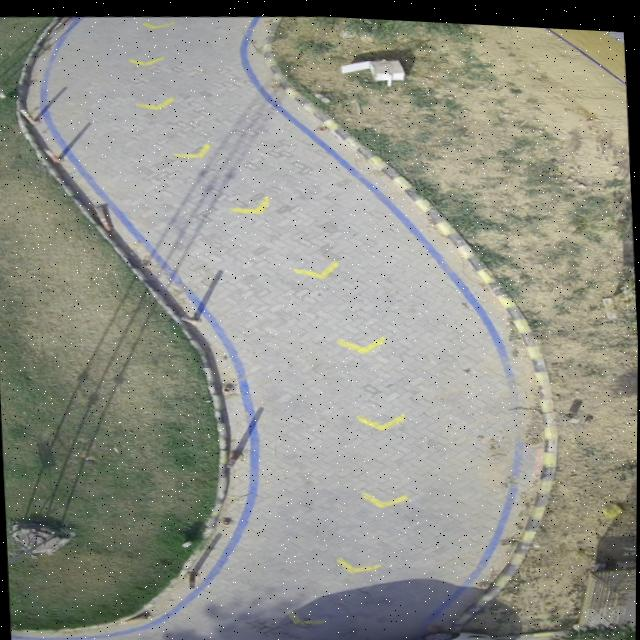car: (392, 627, 503, 640)
